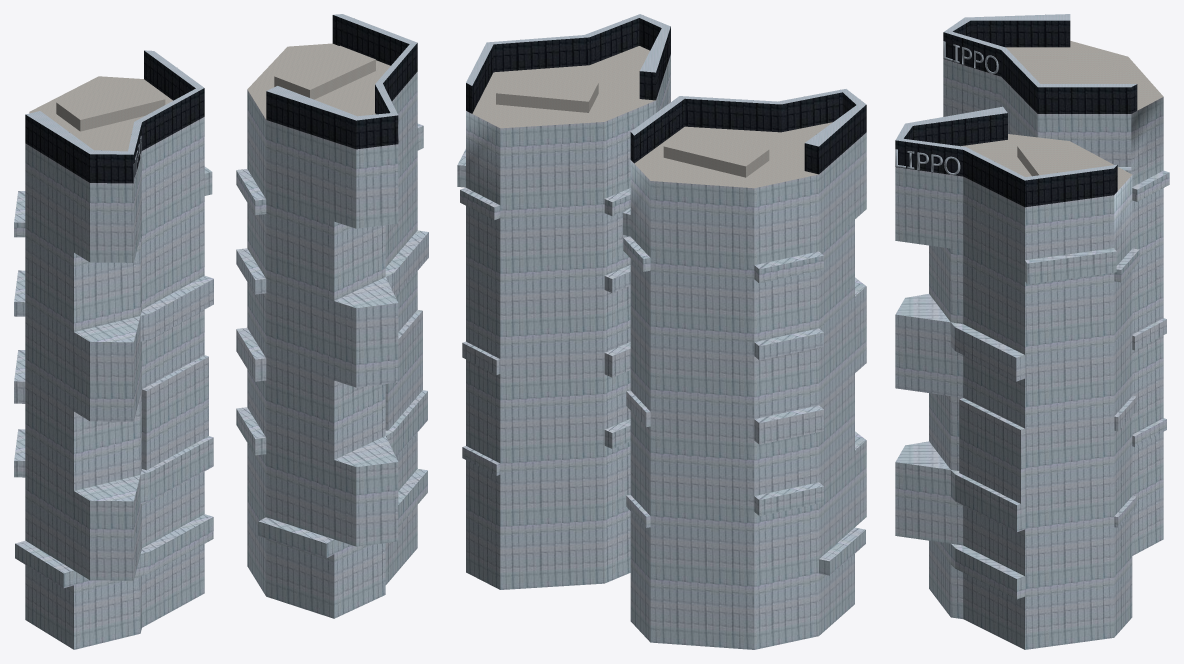
File: Lippo.dae
The picture shows the model from 3 angles, left to right: view 1: azimuth 30°, elevation 25°; view 2: azimuth 150°, elevation 25°; view 3: azimuth 270°, elevation 25°; orthographic projection. The views are drawn at different scales.
Parts seen in each view (by area): view 1: Mesh11__Beige_1, Mesh12__Beige_1, Mesh12__Black_, Mesh11__Black_, Mesh12_Tile_Tra, Mesh11_Tile_Tra, FrontColor_001; view 2: Mesh11__Beige_1, Mesh12__Beige_1, Mesh12_Tile_Tra, Mesh11_Tile_Tra, Mesh11__Black_, Mesh12__Black_, FrontColor_001; view 3: Mesh12__Beige_1, Mesh11__Beige_1, Mesh12__Black_, Mesh11__Black_, Mesh11_Tile_Tra, FrontColor_001, Mesh12_Tile_Tra.
Part boxes in pixels (x1,y1,x2,y2): Mesh11__Beige_1: (14, 117, 213, 649); Mesh12__Beige_1: (236, 72, 428, 618); Mesh12__Black_: (266, 15, 417, 149); Mesh11__Black_: (25, 50, 204, 183); Mesh12_Tile_Tra: (247, 43, 390, 119); Mesh11_Tile_Tra: (29, 76, 172, 151); FrontColor_001: (25, 14, 416, 182); Mesh11__Beige_1: (623, 132, 866, 649); Mesh12__Beige_1: (457, 54, 670, 589); Mesh12_Tile_Tra: (472, 46, 655, 128); Mesh11_Tile_Tra: (634, 122, 832, 188); Mesh11__Black_: (630, 92, 866, 174); Mesh12__Black_: (466, 18, 670, 113); FrontColor_001: (466, 14, 866, 146); Mesh12__Beige_1: (895, 167, 1139, 649); Mesh11__Beige_1: (943, 59, 1169, 555); Mesh12__Black_: (895, 113, 1117, 207); Mesh11__Black_: (943, 20, 1137, 113); Mesh11_Tile_Tra: (1006, 41, 1163, 110); FrontColor_001: (895, 14, 1136, 180); Mesh12_Tile_Tra: (961, 134, 1132, 190).
Bounding box in the file's own units: 102 × 67.45 × 127.
6 materials, 6 textured.
